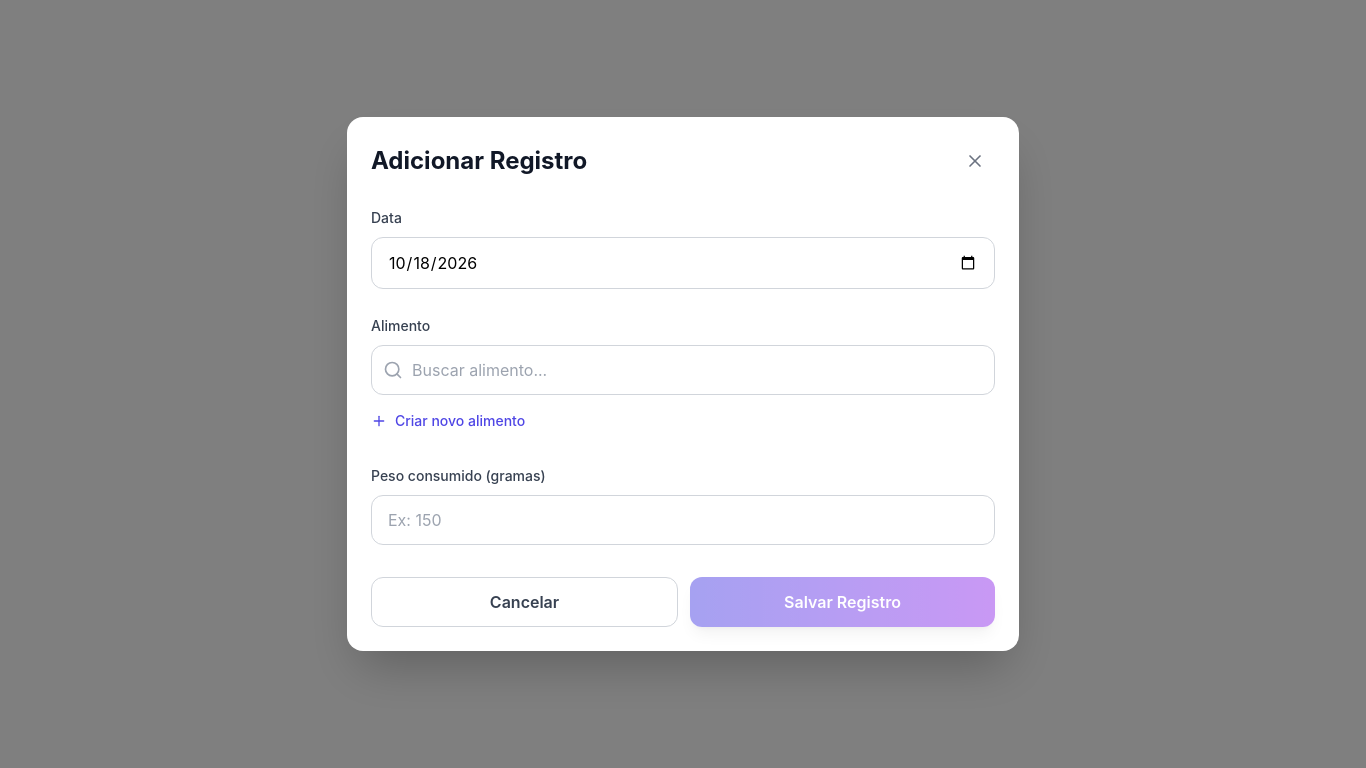
Test: AdicionarRegistro component › limpa a referência selecionada pelo X
Focus the field with placeholder "Buscar alimento..." at point(683, 370), box [371,345,995,395]
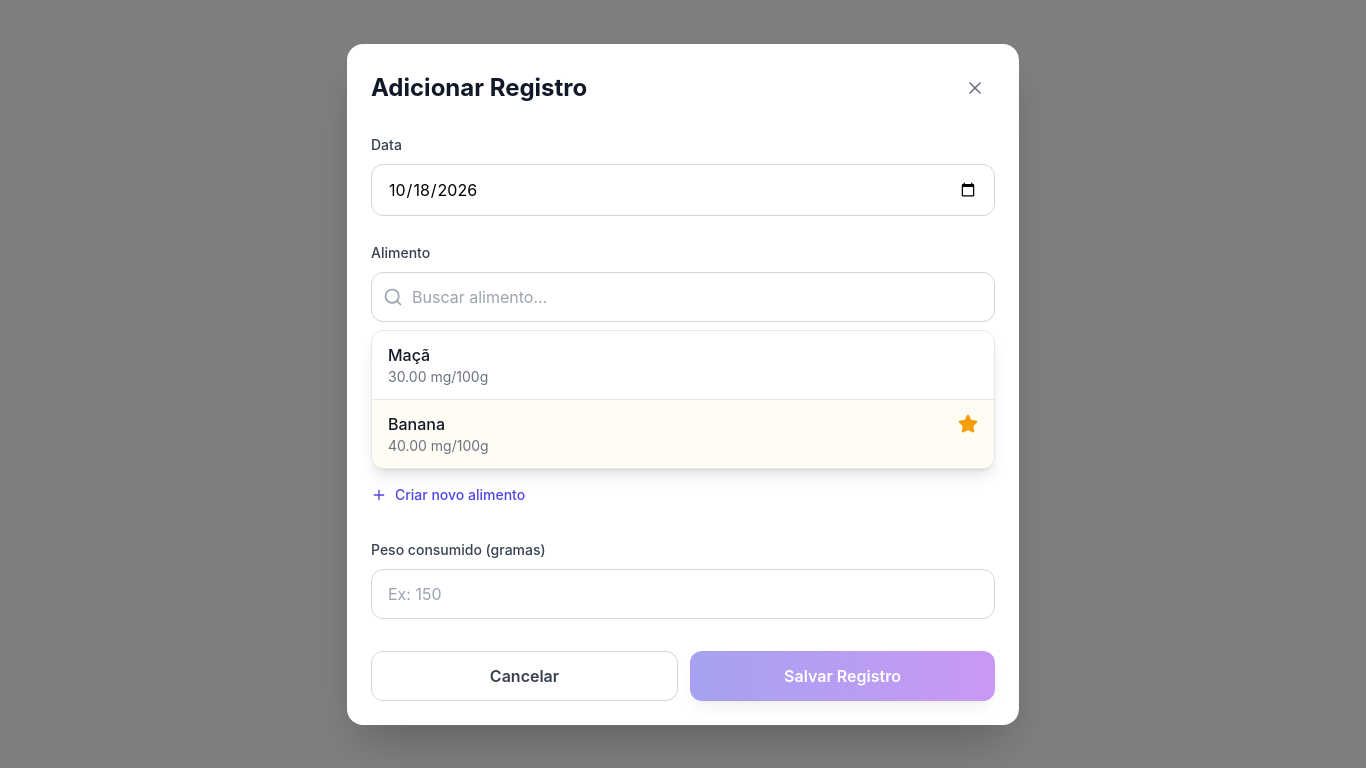
Click the button "Maçã 30.00 mg/100g" at point(409, 354), box [372,330,994,398]
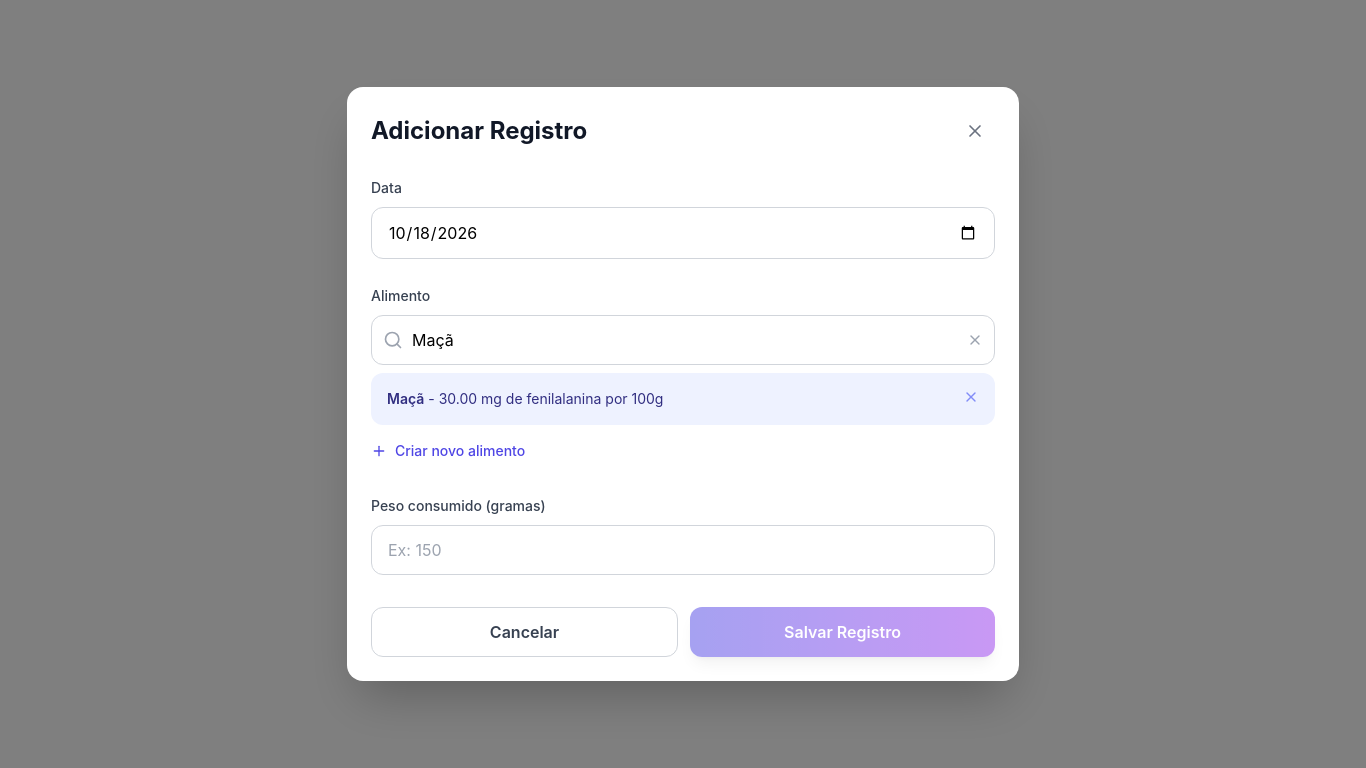
Expected: the text "Maçã - 30.00 mg de fenilalanina por 100g" is shown, [387,389,664,409]
// o X de limpar seleção fica no card da referência selecionada
Click the button without text in the row of "mg de fenilalanina por 100g" at point(971, 397), box [963,389,979,405]
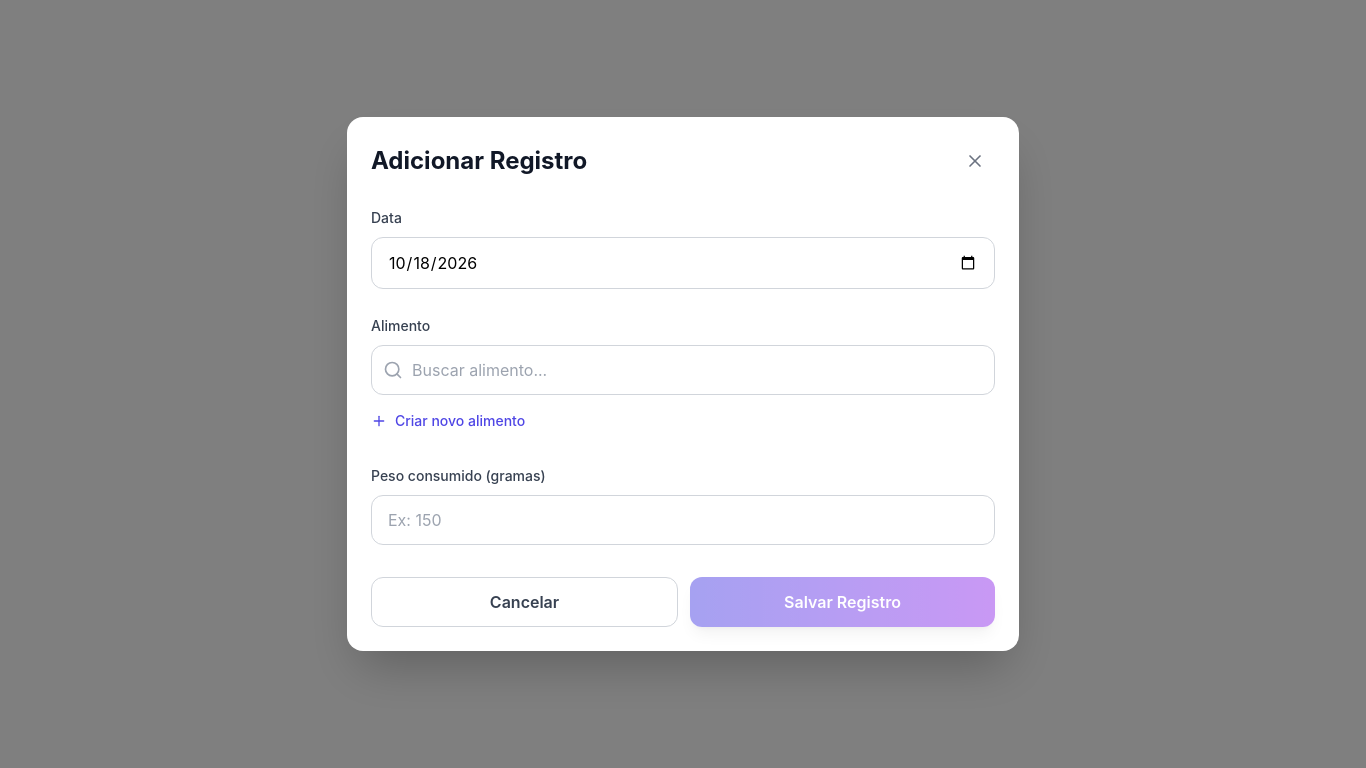
Expected: the text "30.00 mg de fenilalanina" is gone
